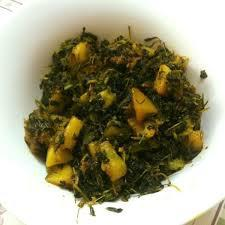Aloo Methi: (15, 35, 206, 211)
